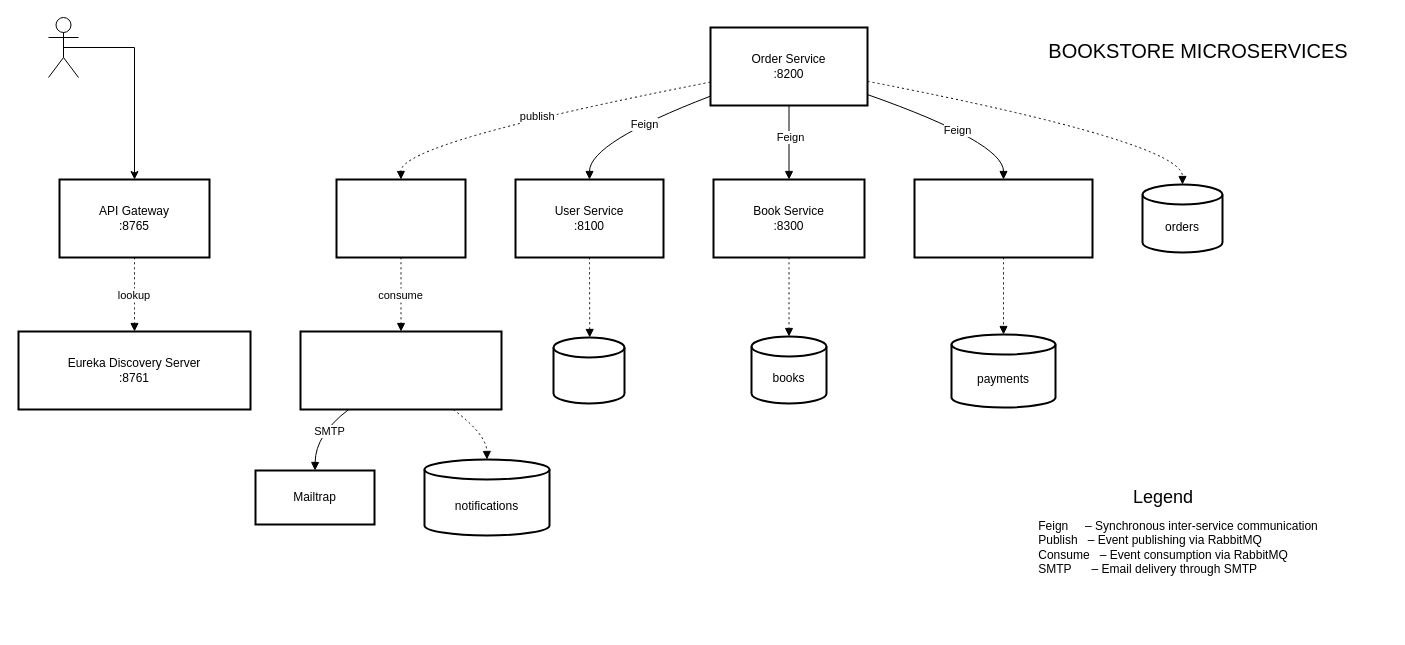
The diagram is 1405 pixels wide and 645 high, and some of its shapes have lost their labels. The shapes that lost their labels are listed below. From the top down, each one's centre as x and y in pixels, then its label:
At (x=63, y=47): "Client".
At (x=400, y=218): "RabbitMQ :5672".
At (x=1003, y=218): "Payment Service :8081".
At (x=400, y=370): "Notification Service :8400".
At (x=588, y=370): "users".
